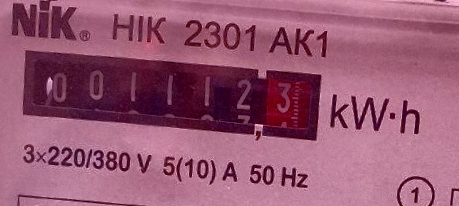0: (82, 65, 108, 105), (46, 67, 72, 105)
1: (121, 66, 143, 106), (159, 69, 177, 109), (197, 72, 215, 110)
2: (230, 75, 256, 114)
3: (271, 79, 293, 116)
screen: (10, 37, 330, 153)
